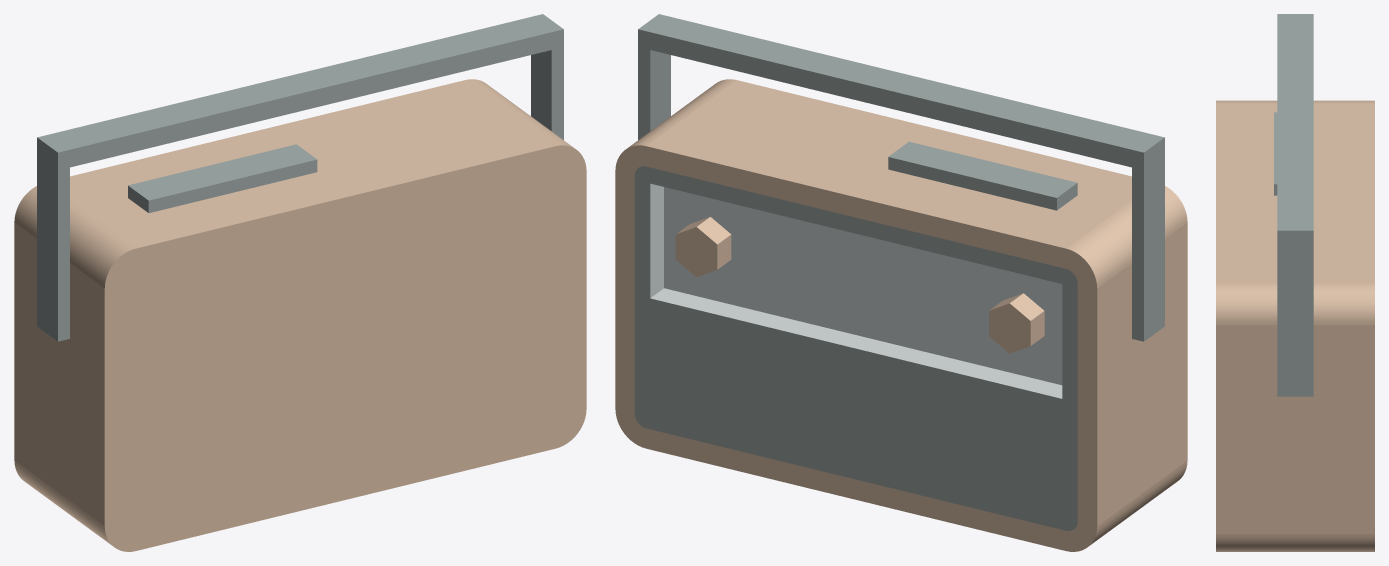
Rendered from radio.glb.
The picture shows the model from 3 angles, left to right: view 1: azimuth 30°, elevation 25°; view 2: azimuth 150°, elevation 25°; view 3: azimuth 270°, elevation 25°; orthographic projection. The views are drawn at different scales.
Visible parts, largest first — view 1: radio(Clone); view 2: radio(Clone); view 3: radio(Clone).
Part boxes in pixels (x1,y1,x2,y2): radio(Clone): (14, 14, 586, 551); radio(Clone): (615, 14, 1187, 551); radio(Clone): (1216, 14, 1374, 551).
Size of the model in its own units: 0.6615 by 0.4792 by 0.2048.
